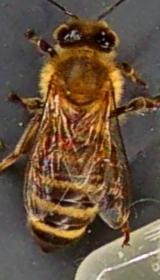varroa_mite: (54, 130, 76, 151)
